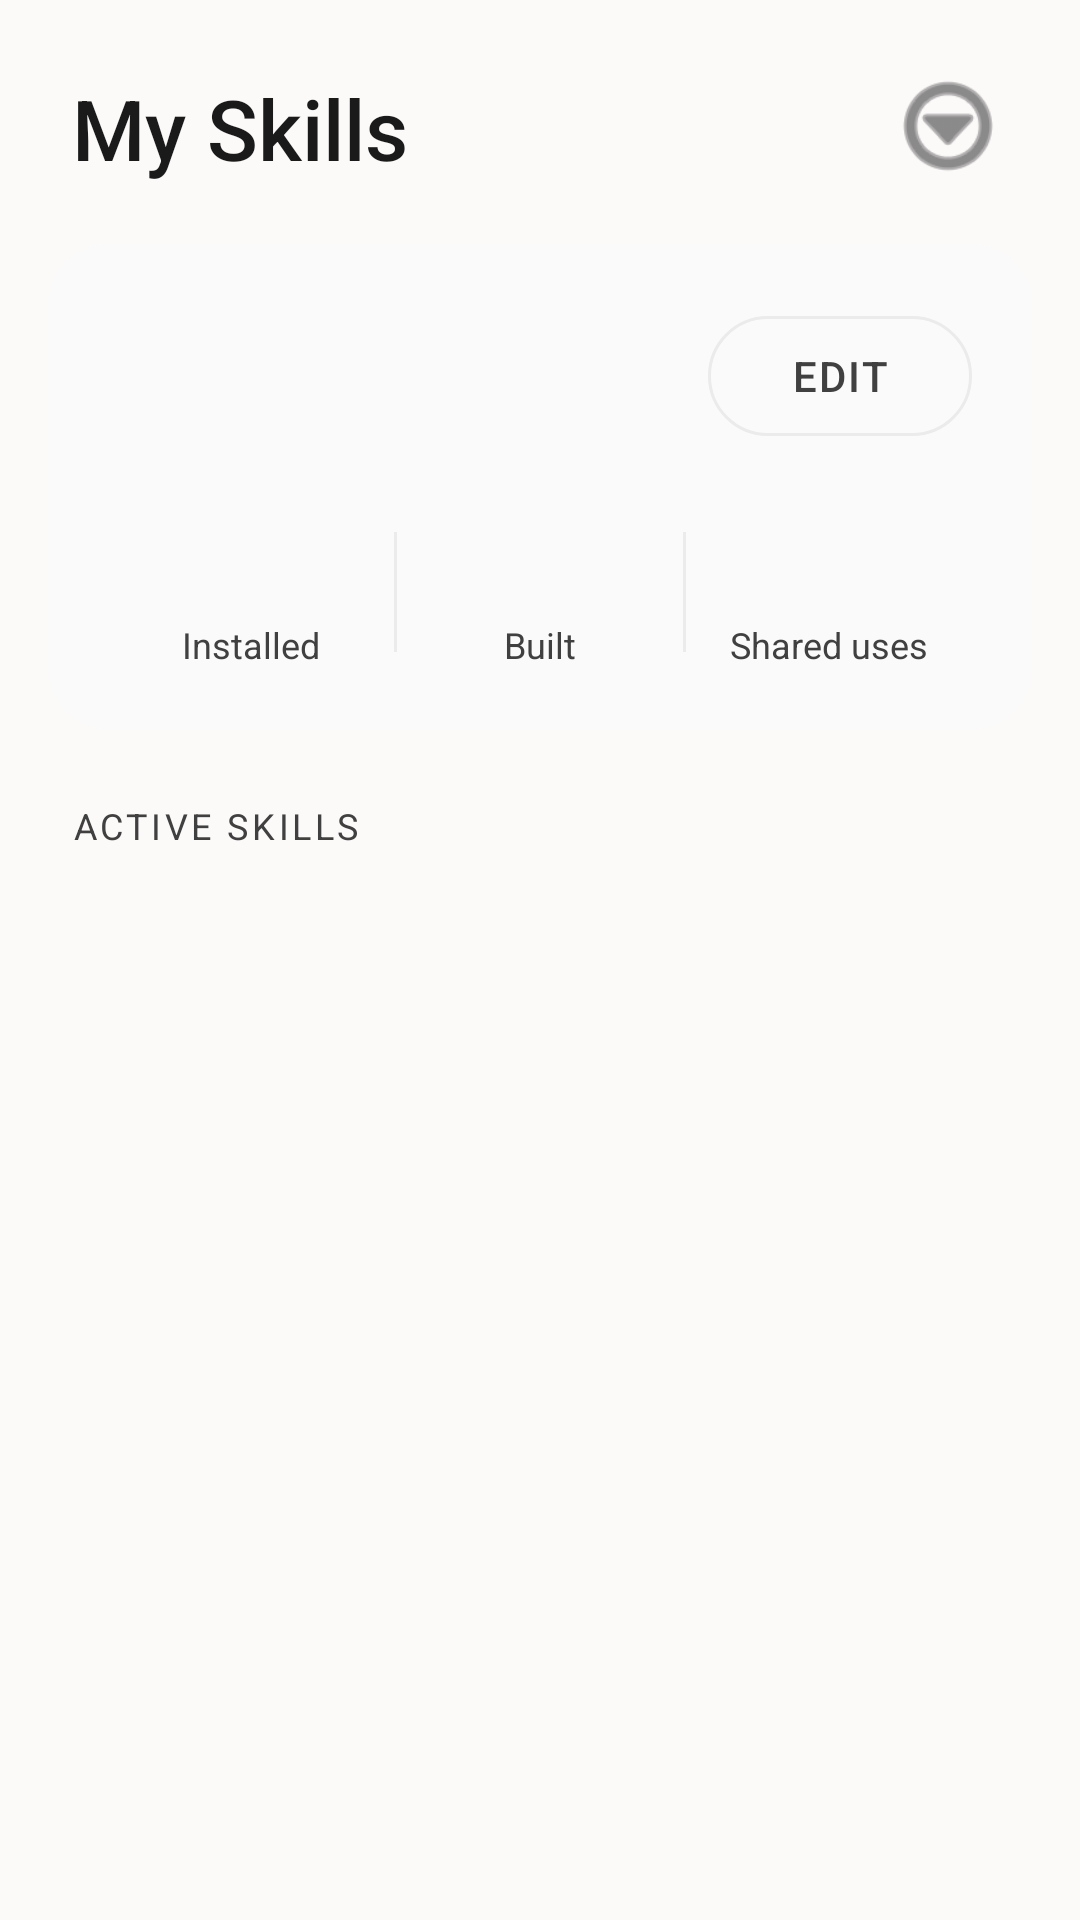

Named icons in this screenshot (1080w x 1920h) and their bounding boxes, (x1, y1, x2, y2):
more: (904, 82, 992, 170)
